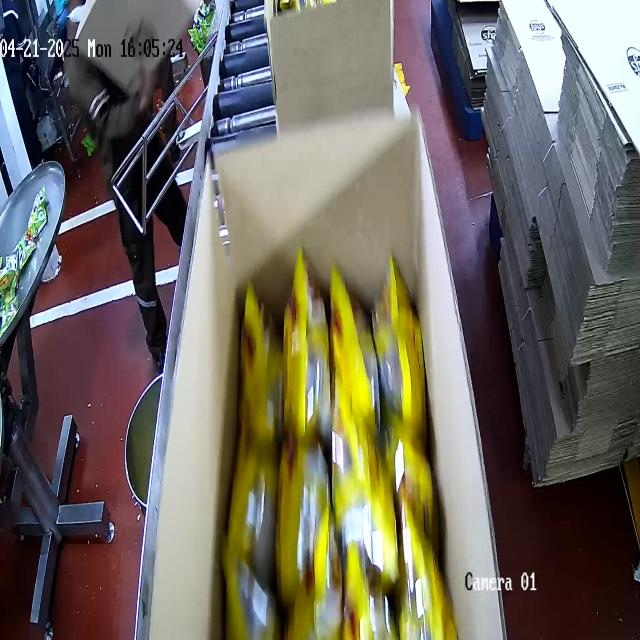SALTED: (222, 253, 448, 640)
